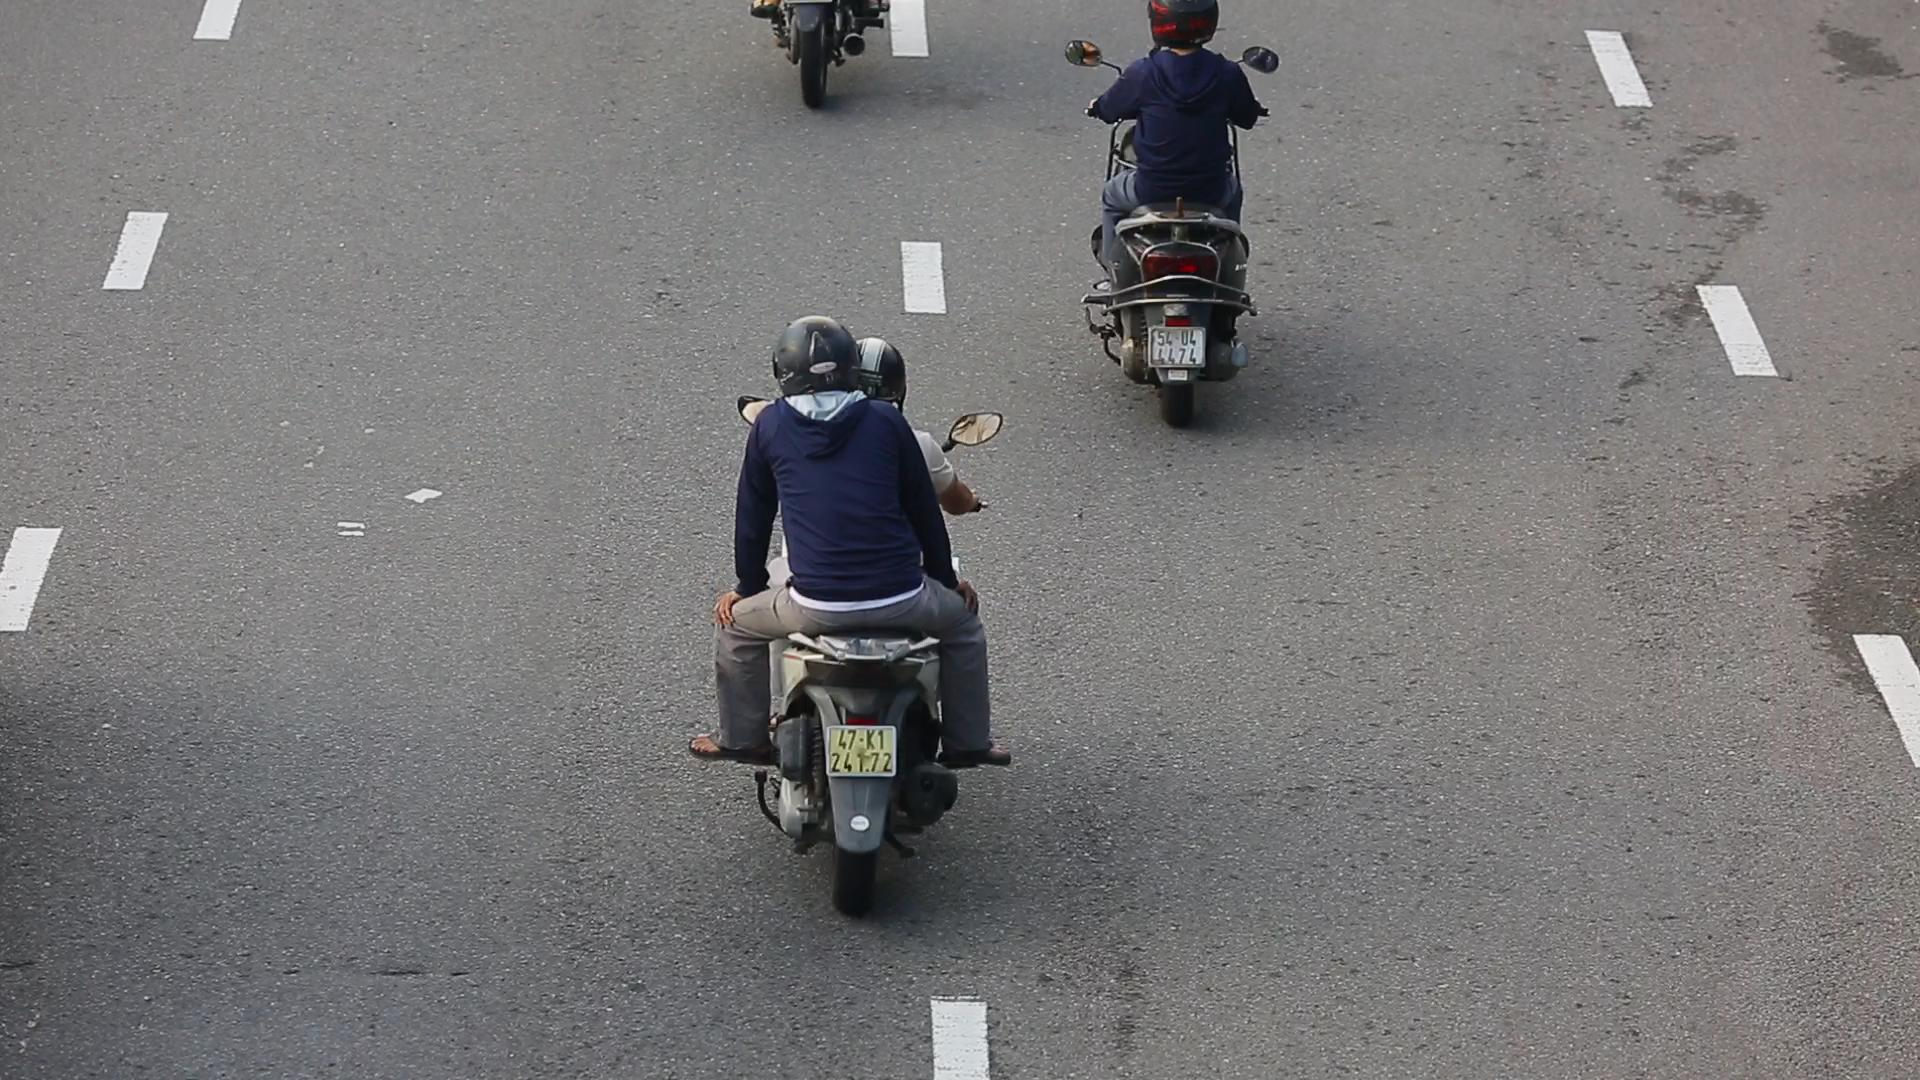motobike: (684, 298, 1009, 916)
